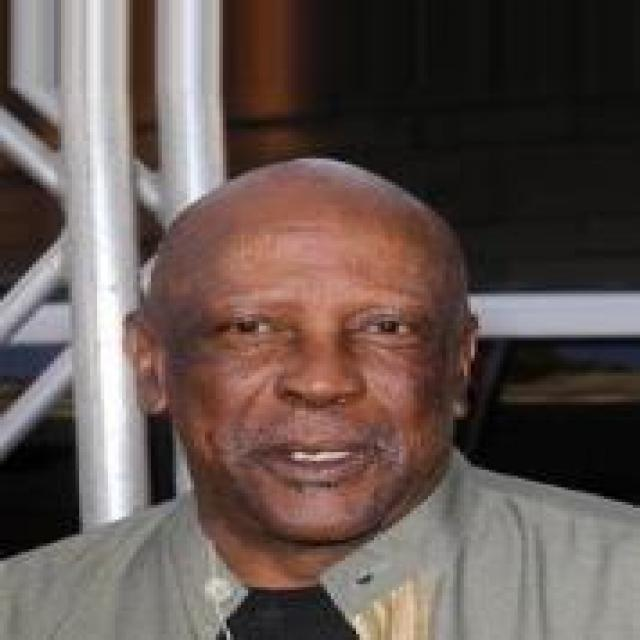nomask: (18, 147, 550, 558)
